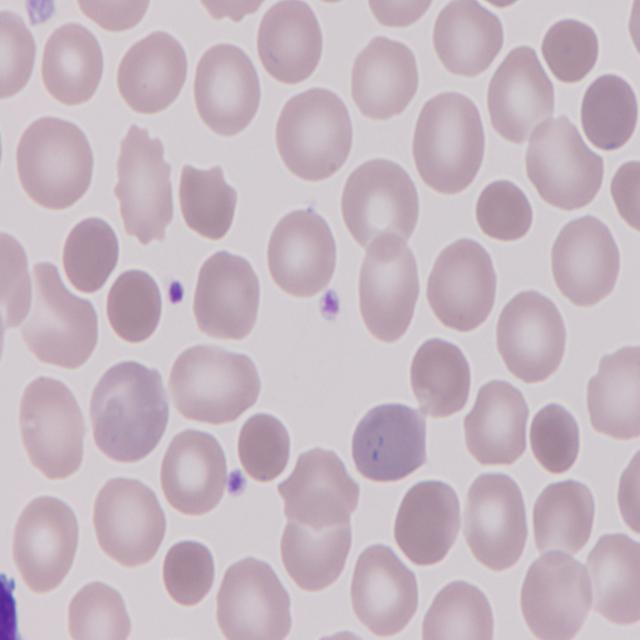RBC: (90, 359, 176, 469), (412, 86, 490, 202), (339, 153, 422, 260), (13, 114, 98, 212), (15, 372, 90, 482), (522, 112, 603, 212), (352, 230, 422, 345), (272, 86, 354, 184), (170, 343, 264, 426), (423, 232, 499, 334), (89, 475, 168, 573), (492, 286, 566, 388), (462, 472, 534, 576), (192, 39, 266, 140), (548, 210, 623, 309), (190, 245, 265, 344), (9, 495, 81, 597), (266, 206, 342, 301), (278, 501, 354, 596), (488, 48, 560, 147), (113, 28, 191, 116), (351, 545, 423, 640), (158, 428, 229, 524), (518, 548, 592, 640), (213, 556, 294, 640), (348, 32, 420, 126), (464, 378, 534, 473), (390, 478, 463, 569), (282, 445, 362, 526), (253, 0, 325, 89), (37, 18, 108, 108), (349, 400, 424, 482), (432, 0, 507, 80), (408, 336, 474, 422), (585, 535, 640, 629), (586, 342, 638, 440), (180, 164, 241, 244), (421, 579, 500, 640), (65, 579, 133, 640), (0, 5, 40, 103), (72, 1, 156, 36), (609, 153, 640, 242), (611, 443, 640, 538), (364, 0, 441, 32)
Spherocyte: (104, 264, 166, 348), (576, 69, 637, 153), (61, 215, 120, 296), (540, 14, 606, 84), (527, 396, 583, 476), (237, 411, 294, 484), (475, 177, 534, 245), (164, 536, 216, 608)
